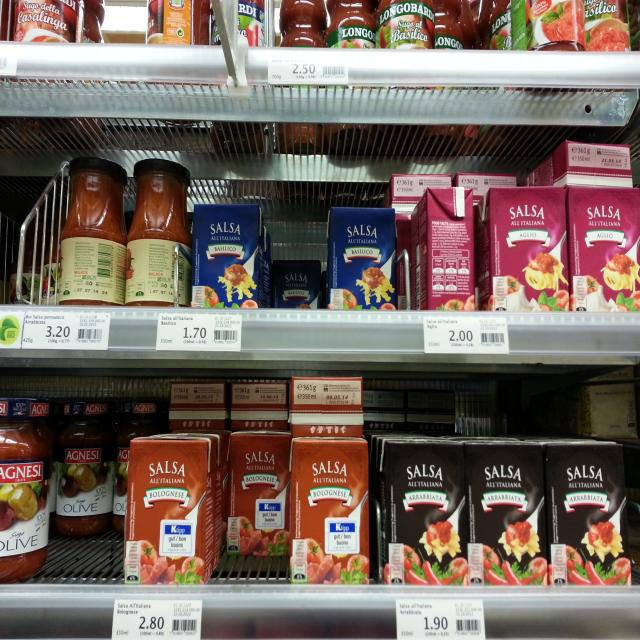Sauce: (124, 434, 216, 584), (536, 438, 625, 586), (378, 438, 465, 586), (464, 440, 544, 588), (292, 436, 368, 584), (481, 185, 568, 313), (60, 156, 127, 307), (124, 158, 190, 308), (0, 396, 51, 581), (570, 185, 640, 312), (58, 396, 116, 538), (227, 429, 291, 557), (411, 188, 476, 310), (192, 204, 262, 308), (330, 207, 398, 312), (288, 375, 364, 435)
